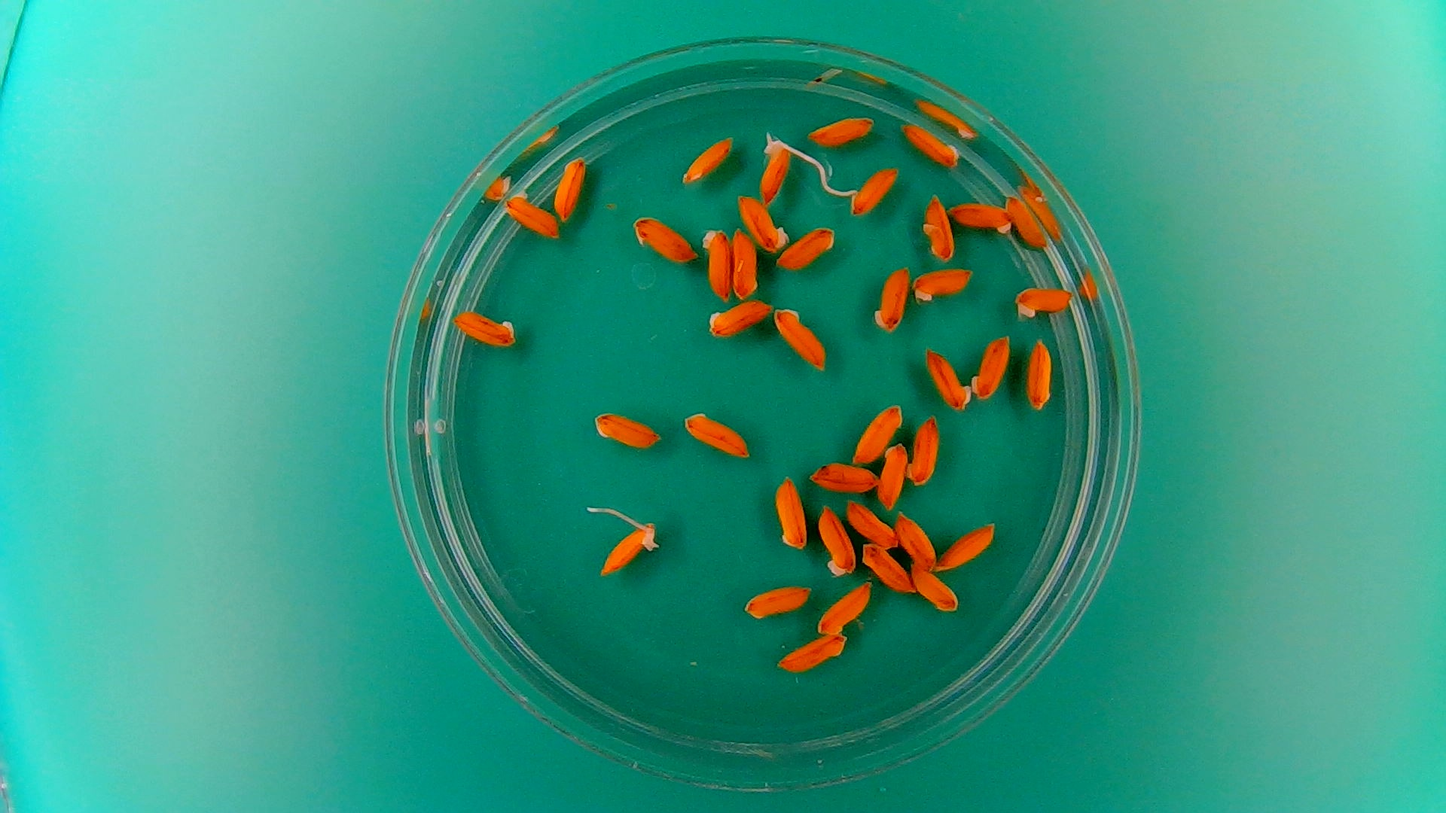no: (772, 303, 829, 373), (680, 407, 752, 458), (810, 581, 874, 637), (630, 212, 697, 264), (850, 399, 902, 465), (816, 502, 859, 580), (923, 344, 971, 413), (936, 519, 997, 573), (774, 630, 848, 674), (736, 192, 789, 251), (859, 540, 915, 595), (969, 331, 1012, 402), (900, 120, 961, 169), (776, 224, 838, 272), (843, 497, 899, 550), (741, 581, 813, 622), (908, 560, 962, 614), (503, 187, 559, 239), (590, 410, 661, 451), (705, 297, 773, 339), (773, 473, 809, 552), (680, 133, 735, 184), (452, 307, 518, 349), (872, 263, 911, 334), (894, 510, 938, 571), (906, 412, 941, 488), (552, 151, 588, 223), (1023, 333, 1055, 412), (806, 111, 876, 147), (700, 224, 733, 300), (807, 458, 880, 492), (1006, 196, 1049, 253), (876, 438, 909, 512), (911, 266, 975, 304), (922, 192, 956, 263), (942, 199, 1014, 231), (730, 225, 758, 301), (1012, 283, 1072, 317)
yes: (598, 501, 660, 580), (844, 167, 908, 215), (758, 127, 794, 207)
